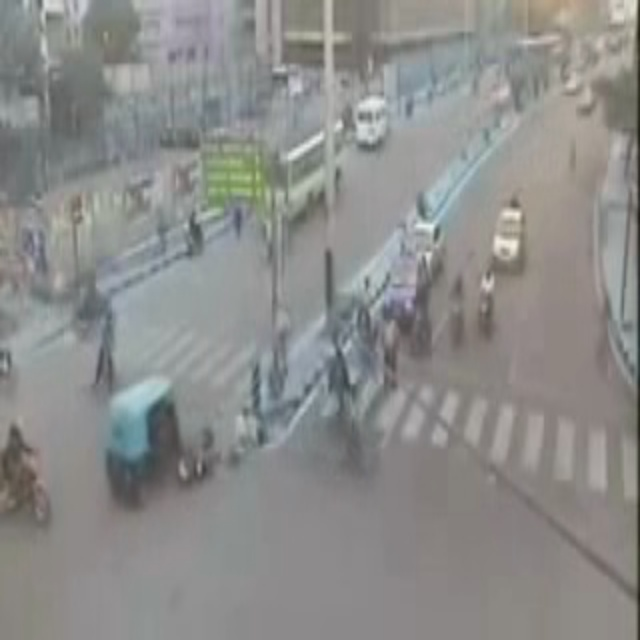acc: (96, 376, 220, 507)
